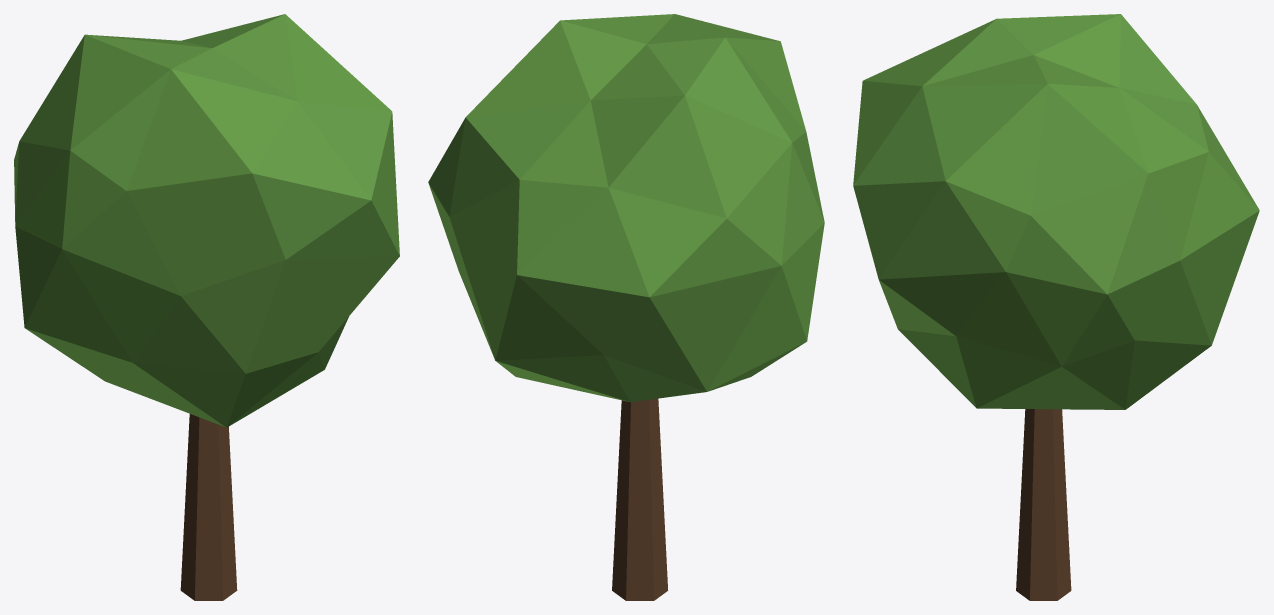
The model's file is Agac_Yuvarlak_1.fbx.
3 views of the same model, side by side, from view 1: azimuth 30°, elevation 25°; view 2: azimuth 150°, elevation 25°; view 3: azimuth 270°, elevation 25° (orthographic). The views are drawn at different scales.
Visible parts, largest first — view 1: Agac_Yuvarlak_1; view 2: Agac_Yuvarlak_1; view 3: Agac_Yuvarlak_1.
Boxes of the visible parts, x1,y1,x2,y2 form: Agac_Yuvarlak_1: [14, 14, 399, 600]; Agac_Yuvarlak_1: [428, 14, 824, 600]; Agac_Yuvarlak_1: [853, 14, 1259, 600].
Size of the model in its own units: 4.08 by 6.07 by 4.11.
